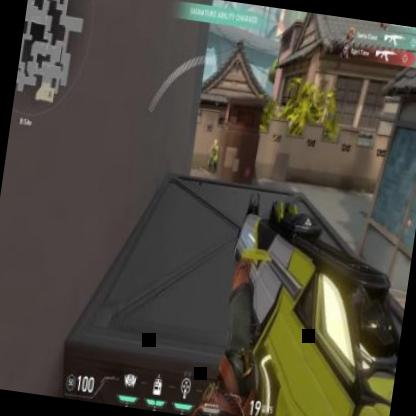enemy: (205, 138, 220, 171)
enemy_head: (212, 140, 216, 146)
